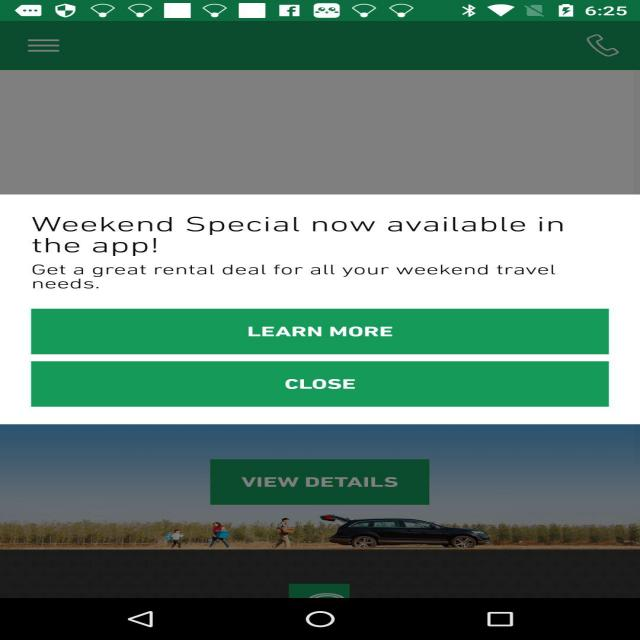button: (33, 308, 606, 353), (31, 365, 610, 406), (212, 460, 434, 501)
image: (10, 428, 618, 595)
text: (4, 194, 584, 296)
